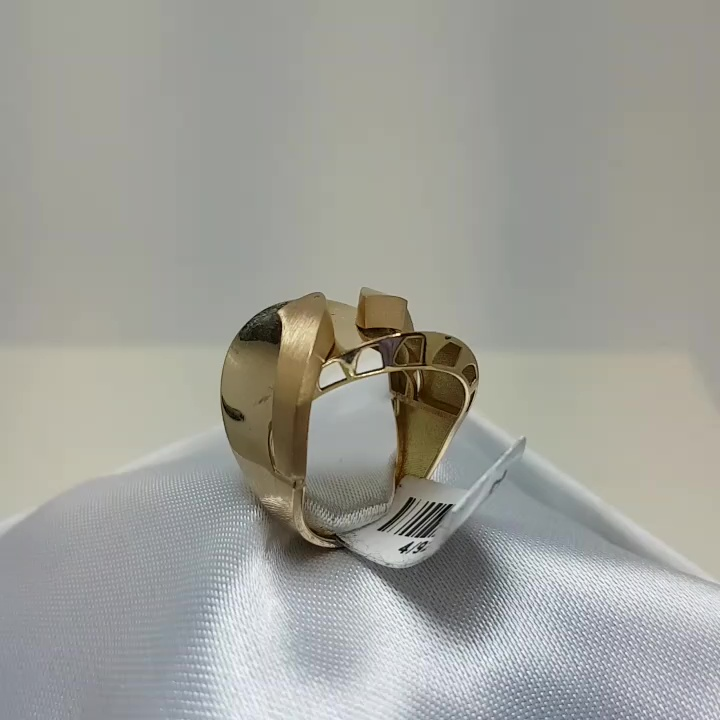Ring 4: (207, 245, 495, 572)
